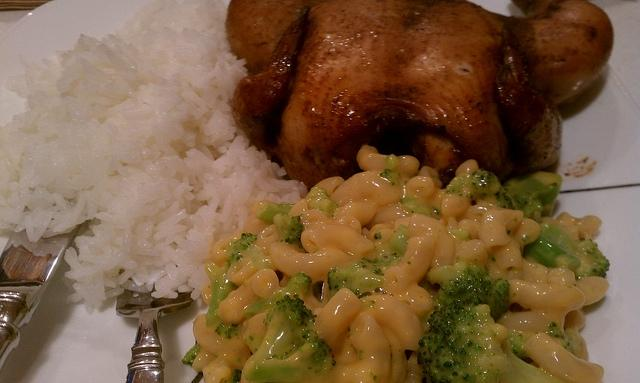broccoli: (418, 263, 554, 383), (243, 294, 336, 381), (204, 233, 278, 328), (540, 222, 610, 280), (243, 272, 312, 326), (255, 186, 339, 224), (503, 178, 559, 218), (326, 265, 384, 299), (526, 234, 568, 268), (350, 251, 404, 276), (274, 212, 304, 248), (542, 322, 570, 350), (508, 328, 534, 358), (381, 154, 402, 186), (389, 225, 409, 254), (215, 322, 240, 339), (182, 342, 200, 364), (448, 229, 471, 240), (232, 369, 242, 381), (432, 207, 441, 216), (374, 234, 382, 240), (373, 376, 377, 383), (407, 260, 411, 264)
